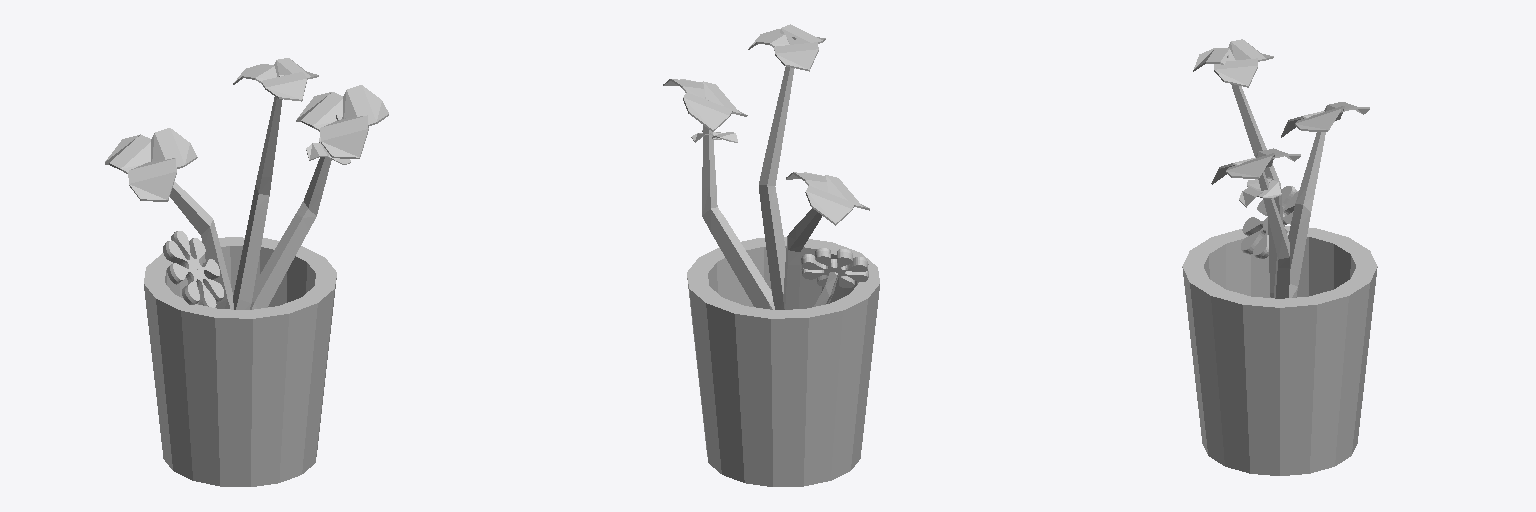
File: plant outside.obj
3 views of the same model, side by side, from view 1: azimuth 30°, elevation 25°; view 2: azimuth 150°, elevation 25°; view 3: azimuth 270°, elevation 25° (orthographic).
Visible parts, largest first — view 1: Plane.007_Plane.008; view 2: Plane.007_Plane.008; view 3: Plane.007_Plane.008.
Boxes of the visible parts, box(x1,y1,x2,y2) form: Plane.007_Plane.008: box(105, 58, 388, 486); Plane.007_Plane.008: box(663, 24, 879, 486); Plane.007_Plane.008: box(1182, 39, 1377, 475).
Size of the model in its own units: 1.26 by 2.11 by 0.9242.